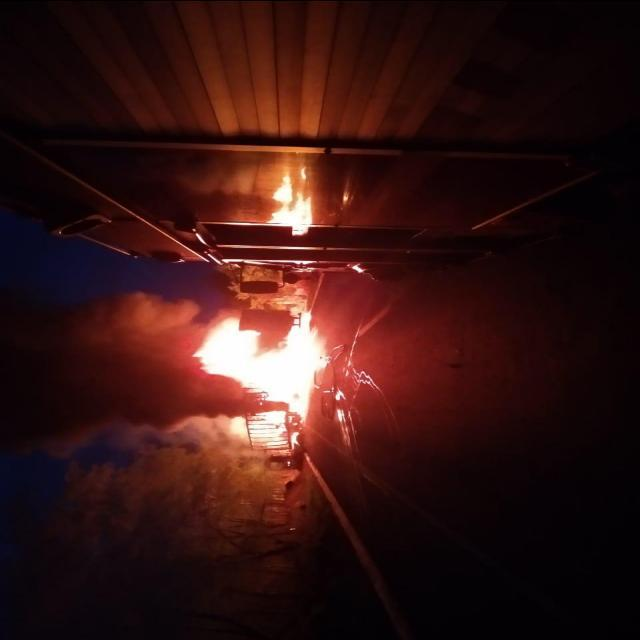Fire: (197, 305, 321, 437)
